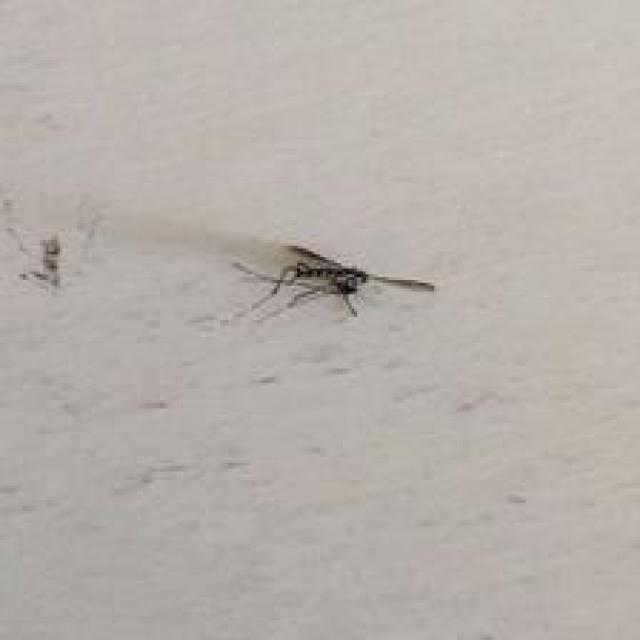Aedes albopictus: (230, 243, 436, 323)
